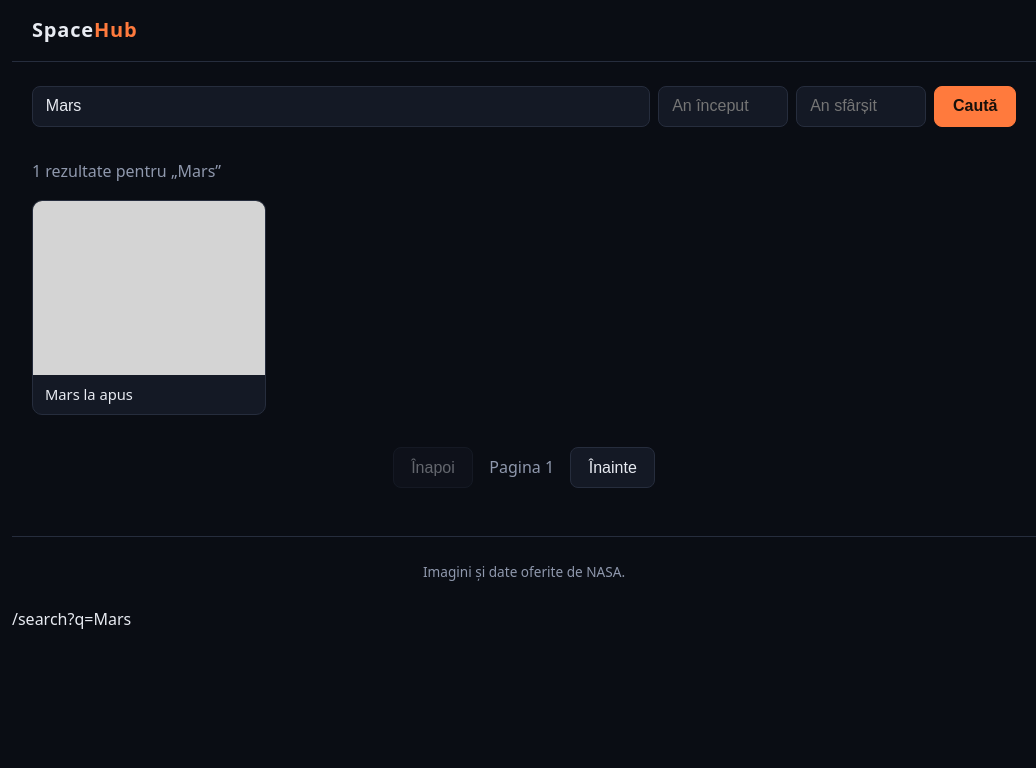
Scenario: US02 - Căutare imagini › trece la pagina următoare
This screenshot has width=1036, height=768.
Click the button "Înainte": (613,468) x1=570 y1=447 x2=655 y2=488
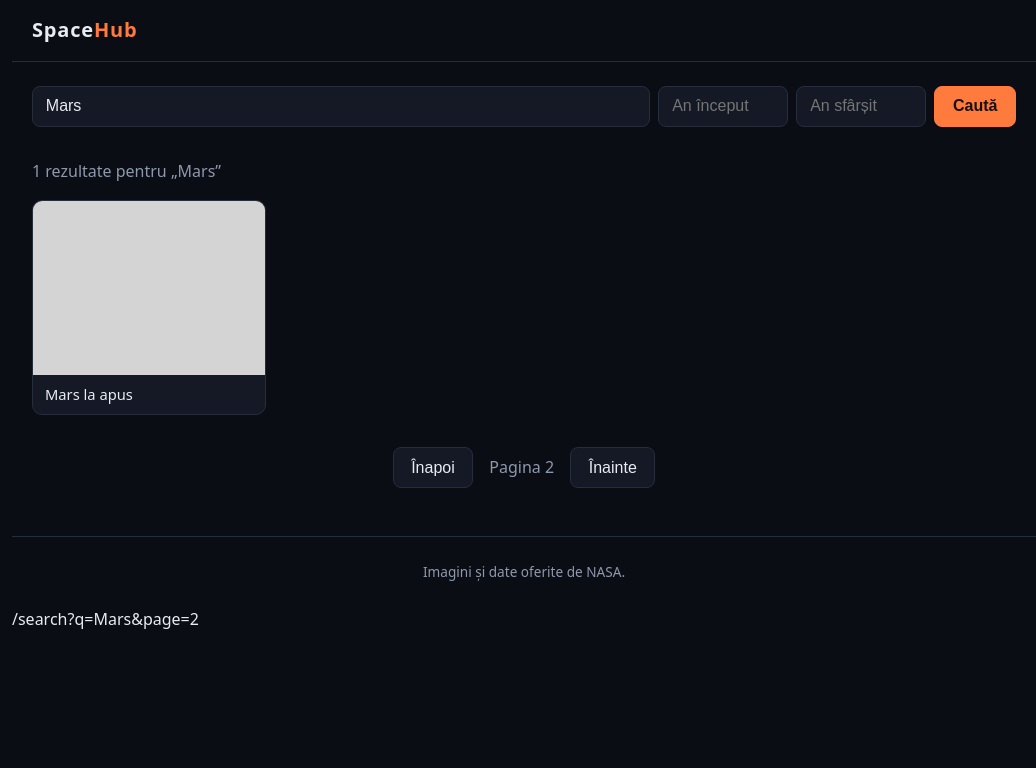
Expected: the button "Înapoi" is enabled, x1=393 y1=447 x2=473 y2=488
